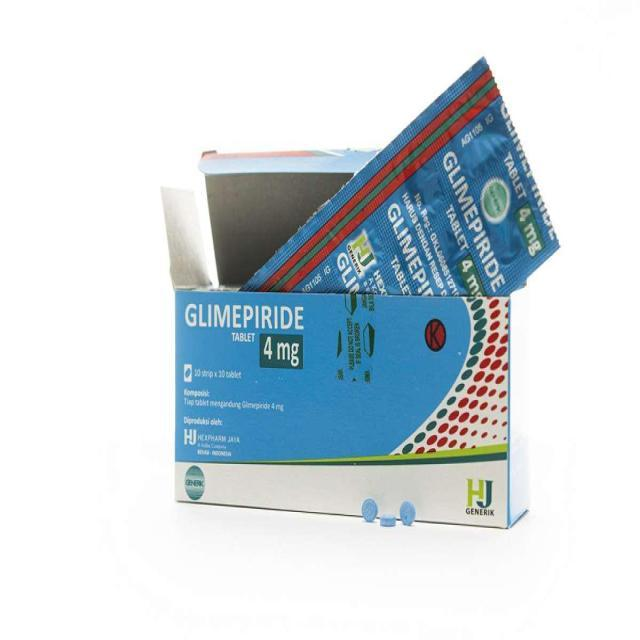drug-name: (180, 300, 308, 334)
